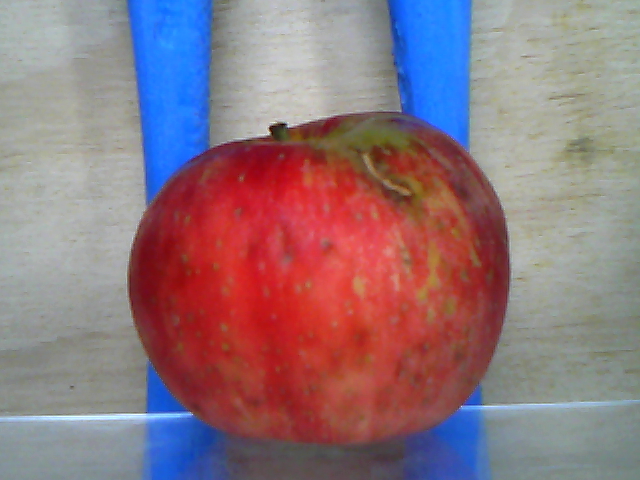cut: (360, 150, 414, 200)
